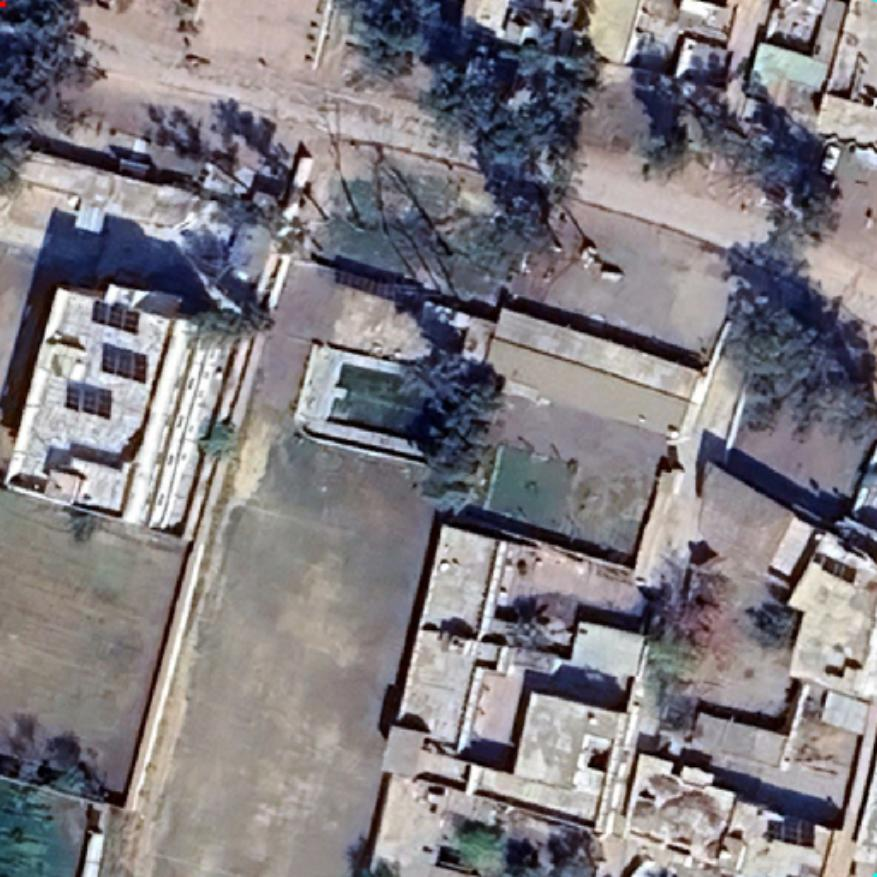Solarpanel: (96, 336, 152, 388), (87, 294, 145, 338), (61, 379, 117, 424), (763, 810, 820, 854), (812, 548, 862, 588)
